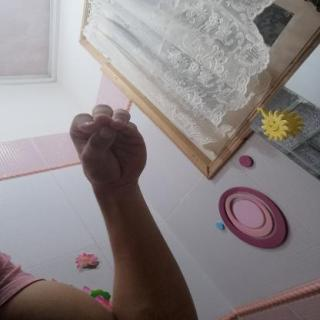HA: (50, 97, 164, 196)
